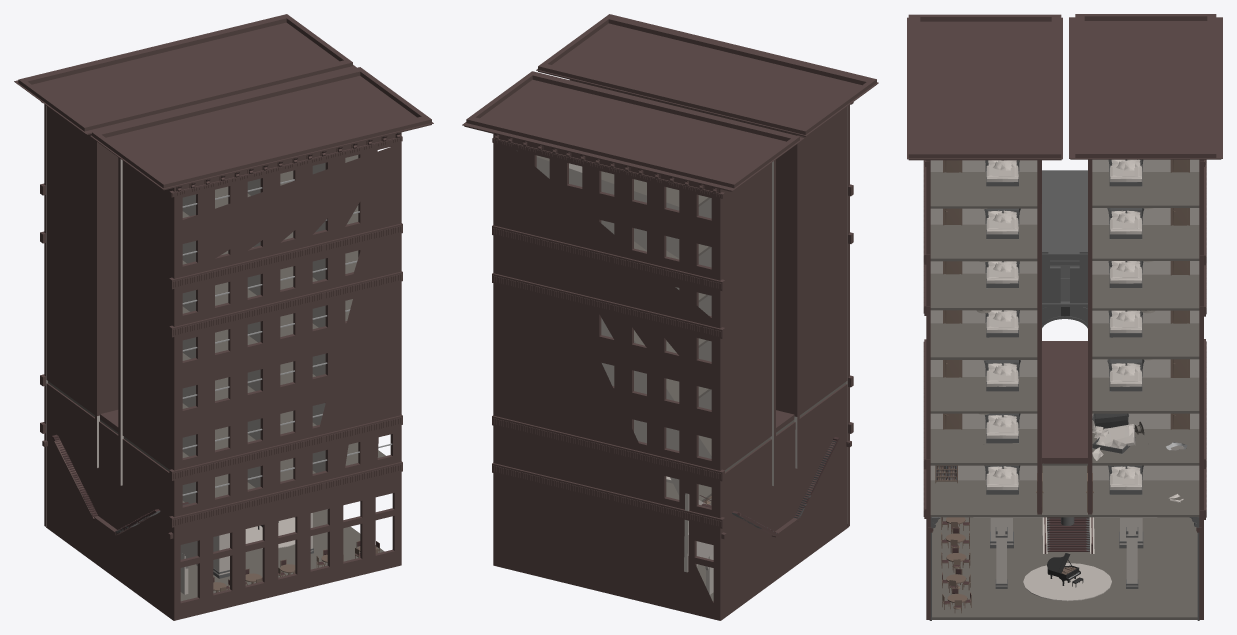
The model's file is Hotel.fbx.
The picture shows the model from 3 angles, left to right: view 1: azimuth 30°, elevation 25°; view 2: azimuth 150°, elevation 25°; view 3: azimuth 270°, elevation 25°; orthographic projection. The views are drawn at different scales.
Visible parts, largest first — view 1: pCube837, pCube740, pCube765, pCube744, pCube767, pCube766, pCube746, pCube724, pCube817, pCube748, pCube743, pCube816 (+23 smaller); view 2: pCube838, pCube740, pCube765, pCube744, pCube766, pCube767, pCube748, polySurface2913, polySurface2914, polySurface2915, polySurface2916, pCube746 (+5 smaller); view 3: pCube740, pCube765, pCube724, pCube726, pCube1105, pCube747, pCube743, pCube984, pCube818, pCube819, pCube821, pCube820 (+36 smaller).
Boxes of the visible parts, left/top/right/bottom form: pCube837: left=172, top=132, right=401, bottom=620; pCube740: left=90, top=67, right=433, bottom=190; pCube765: left=14, top=14, right=356, bottom=134; pCube744: left=46, top=383, right=173, bottom=620; pCube767: left=122, top=161, right=171, bottom=469; pCube766: left=46, top=106, right=94, bottom=414; pCube746: left=95, top=140, right=118, bottom=468; pCube724: left=180, top=501, right=384, bottom=601; pCube817: left=182, top=194, right=195, bottom=503; pCube748: left=118, top=157, right=123, bottom=485; pCube743: left=312, top=163, right=325, bottom=472; pCube816: left=247, top=178, right=260, bottom=487; pCube838: left=493, top=134, right=722, bottom=620; pCube740: left=536, top=14, right=878, bottom=136; pCube765: left=462, top=71, right=804, bottom=191; pCube744: left=721, top=384, right=848, bottom=620; pCube766: left=722, top=162, right=771, bottom=470; pCube767: left=799, top=107, right=847, bottom=415; pCube748: left=570, top=79, right=799, bottom=468; polySurface2913: left=492, top=225, right=724, bottom=290; polySurface2914: left=492, top=273, right=724, bottom=338; polySurface2915: left=492, top=415, right=724, bottom=481; polySurface2916: left=492, top=463, right=724, bottom=528; pCube746: left=698, top=160, right=775, bottom=485; pCube740: left=907, top=14, right=1062, bottom=160; pCube765: left=1069, top=14, right=1222, bottom=159; pCube724: left=932, top=517, right=1197, bottom=619; pCube726: left=930, top=465, right=1199, bottom=517; pCube1105: left=930, top=429, right=1199, bottom=465; pCube747: left=1092, top=159, right=1199, bottom=480; pCube743: left=930, top=160, right=1037, bottom=480; pCube984: left=1042, top=341, right=1087, bottom=463; pCube818: left=930, top=273, right=1037, bottom=310; pCube819: left=930, top=224, right=1037, bottom=261; pCube821: left=930, top=377, right=1037, bottom=413; pCube820: left=930, top=172, right=1037, bottom=208.
Bounding box in the file's own units: 28.76 × 45.41 × 27.09.
